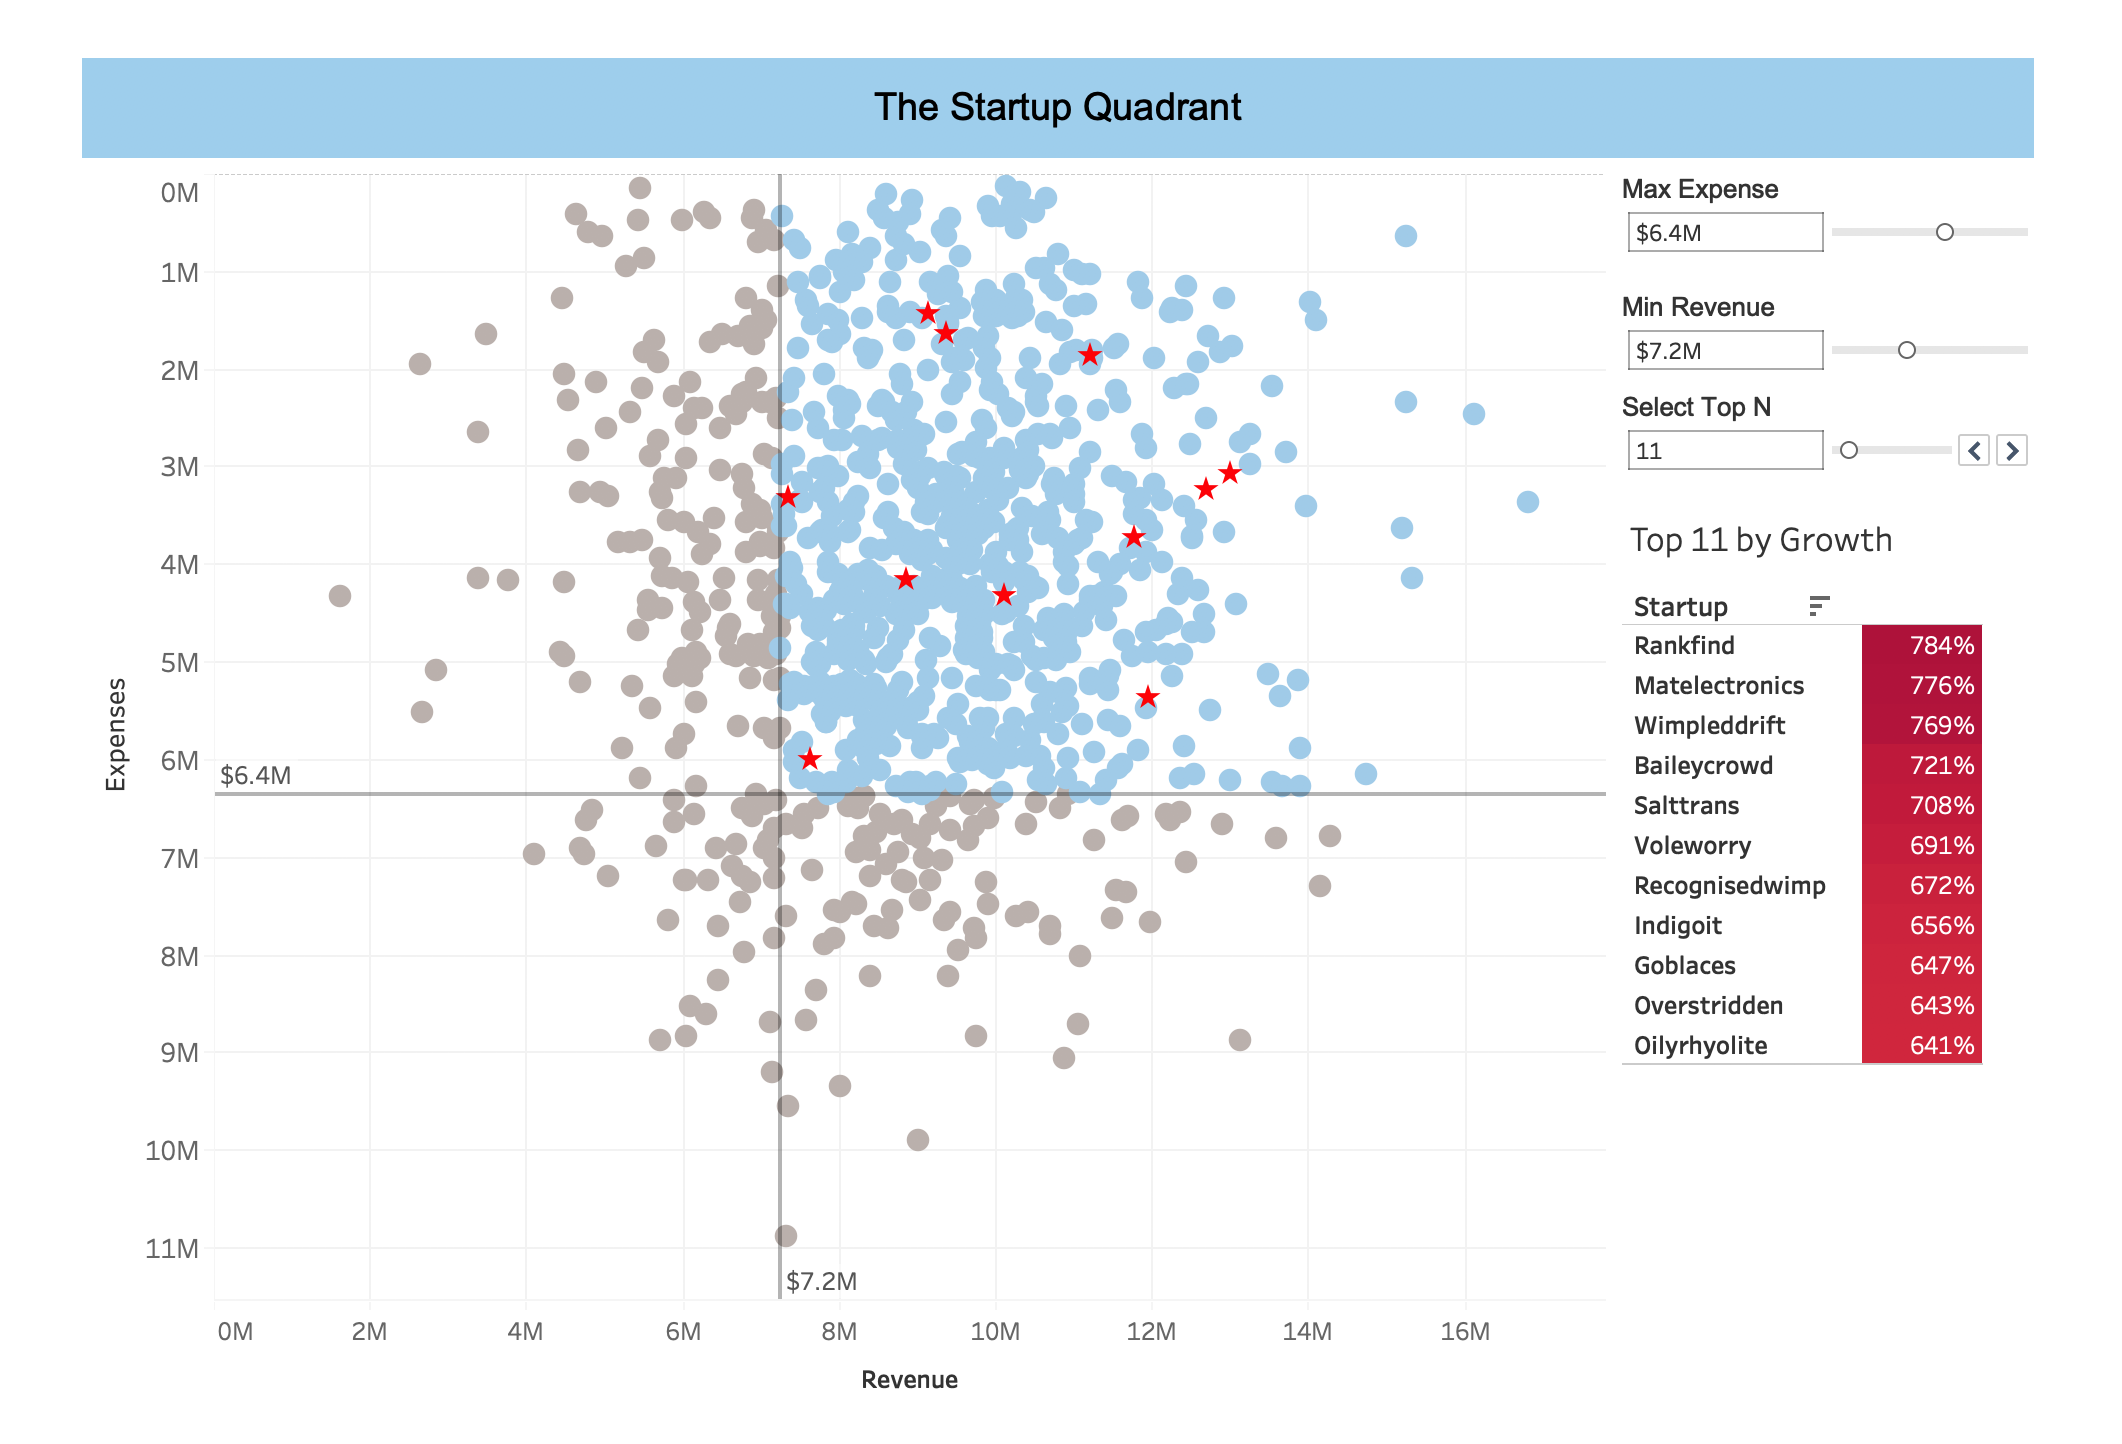

This screenshot's page, from the dashboard's own definition file:
{"tool":"tableau","page":{"name":"Dashboard 1","canvas":[1000,700],"ordinal":0},"visuals":[{"type":"text","box":[8,8,984,58]},{"type":"worksheet","title":"ScatterPlot","mark":"Shape","rows":["2015 Expenses"],"cols":["2015 Revenue"],"box":[8,66,770,626]},{"type":"parameter","param":"[Parameters].[Parameter 3]","box":[778,66,214,59]},{"type":"parameter","param":"[Parameters].[Parameter 2]","box":[778,125,214,50]},{"type":"parameter","param":"[Parameters].[Parameter 1]","box":[778,175,214,58]},{"type":"worksheet","title":"Top Growth","mark":"Square","rows":["Name"],"box":[778,233,214,459]}]}

Visuals, with their boxes in screenshot pixels (x1, y1, x2, y2), scaled from the page's 1000x700 canvas onto the 2122x1444 screenshot:
text: (left=17, top=17, right=2105, bottom=136)
"ScatterPlot" worksheet (Shape marks): (left=17, top=136, right=1651, bottom=1427)
parameter: (left=1651, top=136, right=2105, bottom=258)
parameter: (left=1651, top=258, right=2105, bottom=361)
parameter: (left=1651, top=361, right=2105, bottom=481)
"Top Growth" worksheet (Square marks): (left=1651, top=481, right=2105, bottom=1427)
